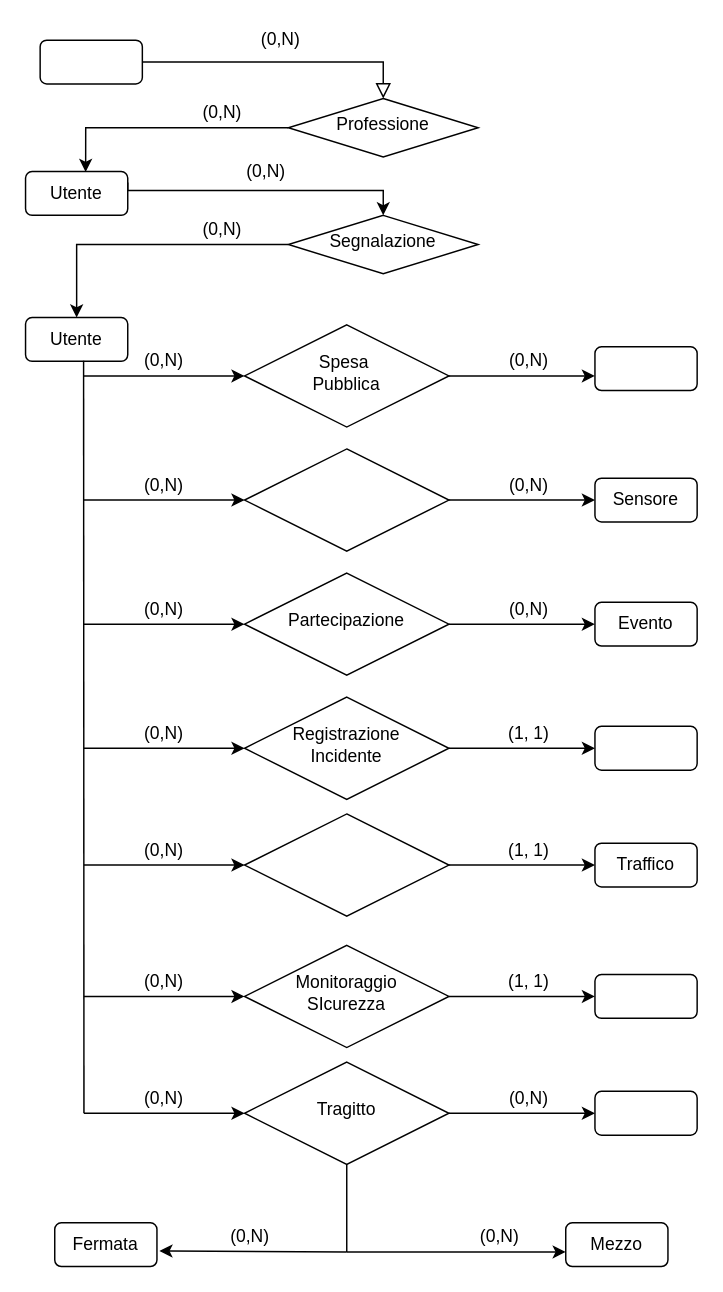
This 723x1292 diagram has some shape labels left out. The centre of each missing label's shape, as x and y in pixels:
Dato: pixel 346 499
Incidente: pixel 645 747
Monitoraggio Traffico: pixel 346 864
Operatore: pixel 90 61
Risorsa Pubblica: pixel 645 368
Servizio Pubblico: pixel 645 1112
Sicurezza: pixel 645 995
